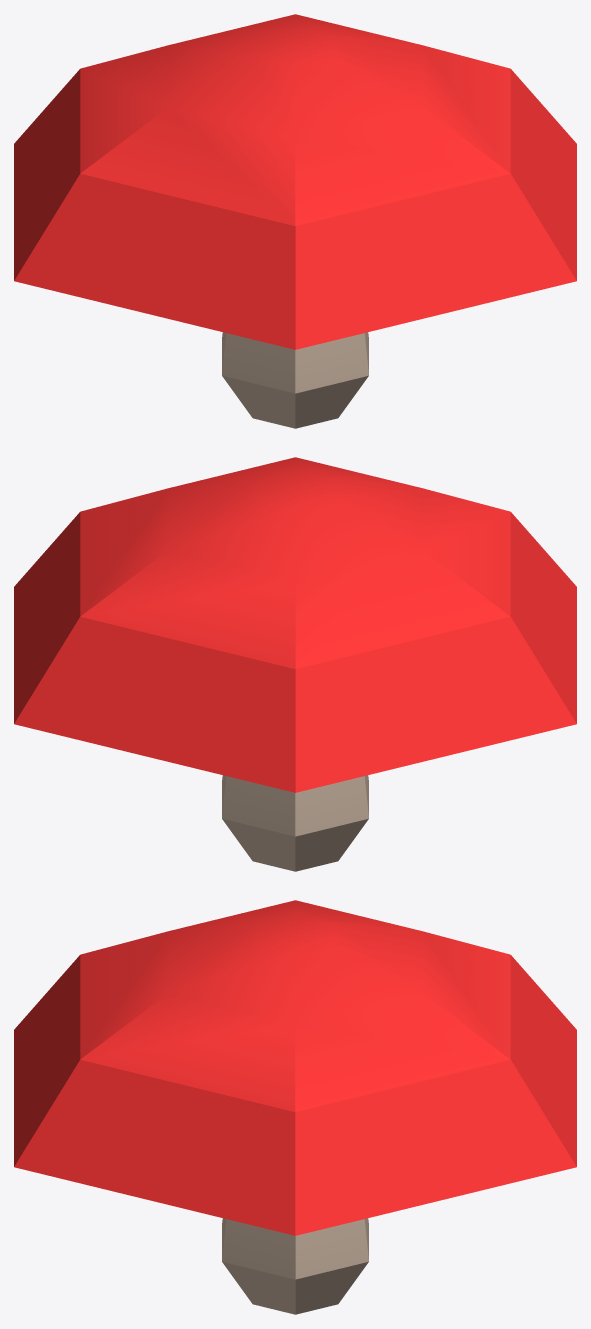
The model's file is Mushroom_Red_01.fbx.
3 renders of one model, top to bottom at view 1: azimuth 30°, elevation 25°; view 2: azimuth 150°, elevation 25°; view 3: azimuth 270°, elevation 25°, orthographic.
Parts seen in each view (by area): view 1: Model; view 2: Model; view 3: Model.
Part boxes in pixels (box(x1,y1,x2,y2)): Model: box(14, 14, 576, 428); Model: box(14, 457, 576, 871); Model: box(14, 900, 576, 1314).
Bounding box in the file's own units: 206 × 126 × 178.
